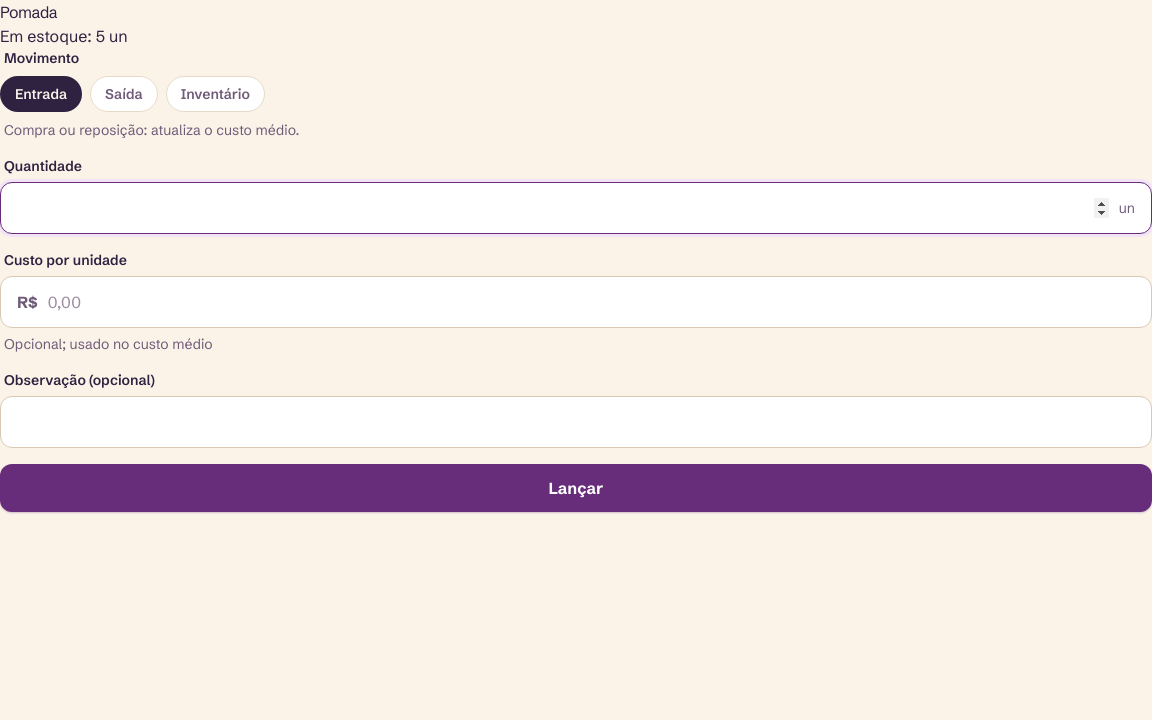
MovementSheet › cada tipo tem a sua dica; só a entrada pede custo; inventário fala em quantidade contada
Click the button "Saída": (124, 94) 90,76 -> 158,112
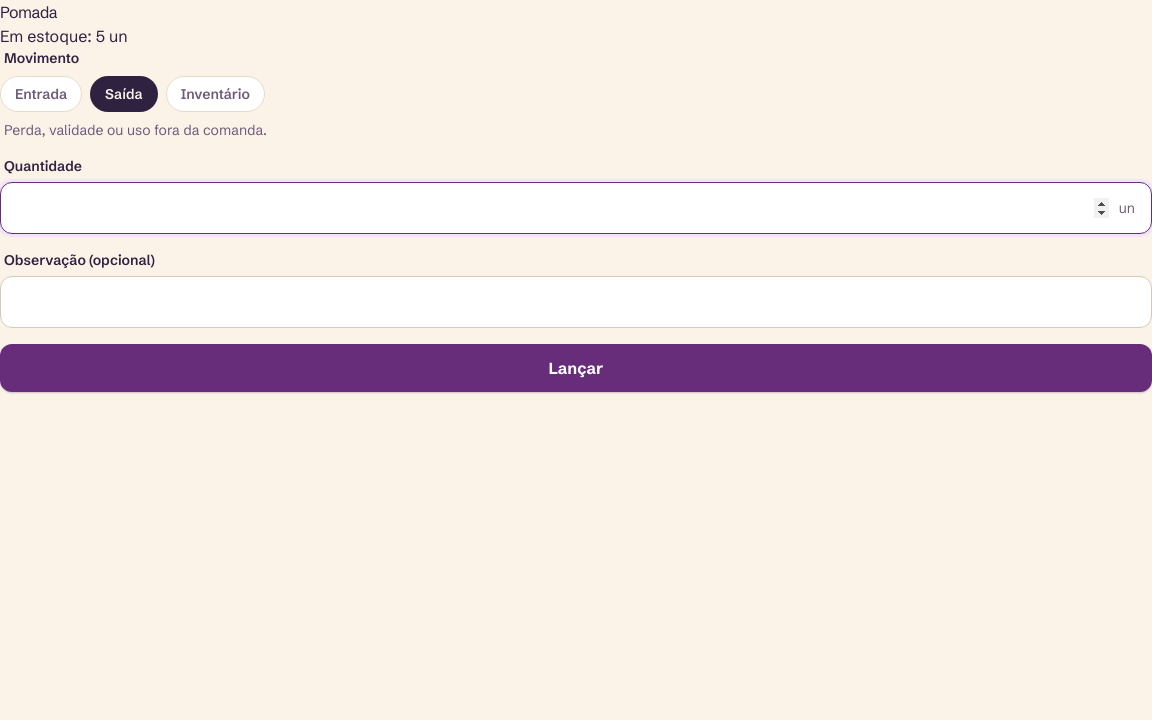
Check: the text "Perda, validade ou uso fora da comanda." is shown, box 4,121 -> 267,139
Check: the label labelled "Custo por unidade" is gone
Click the button "Inventário": (215, 94) 166,76 -> 265,112
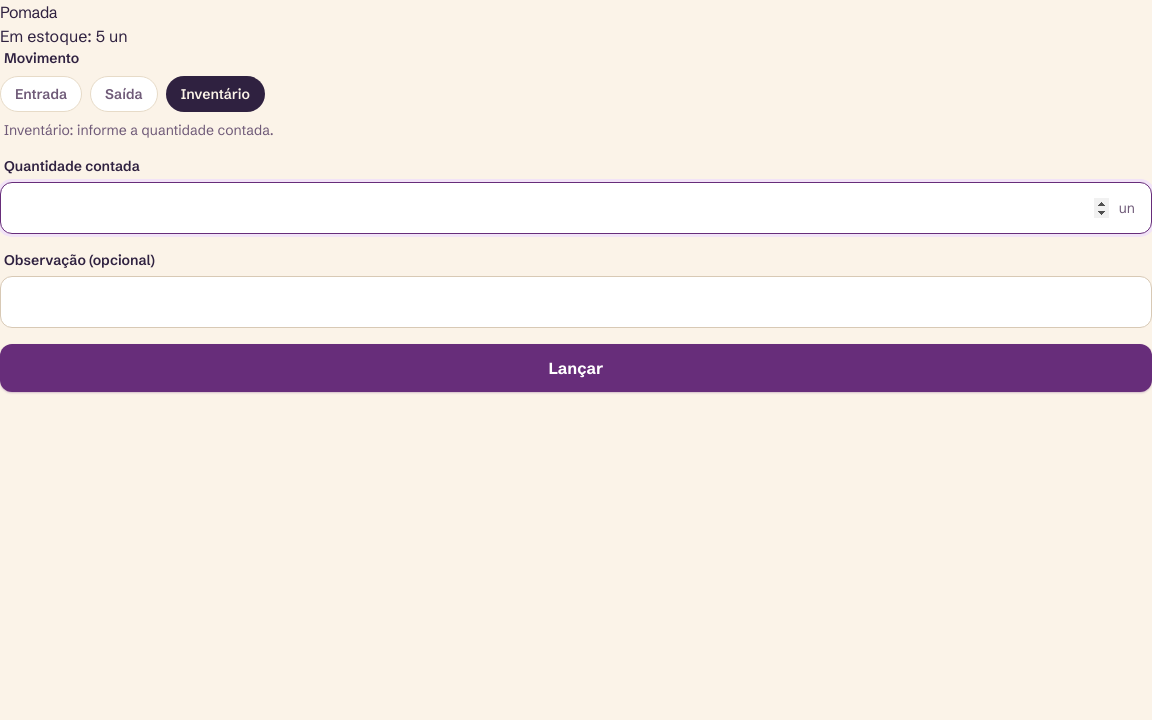
Check: the number field labelled "Quantidade contada" is shown, box 17,183 -> 1109,233
Check: the text "Inventário: informe a quantidade contada." is shown, box 4,121 -> 274,139
